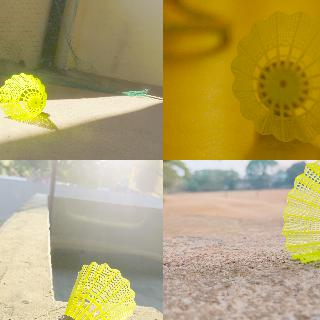shuttlecock: (231, 11, 319, 142), (47, 262, 136, 319), (281, 160, 319, 262), (0, 73, 47, 122)
